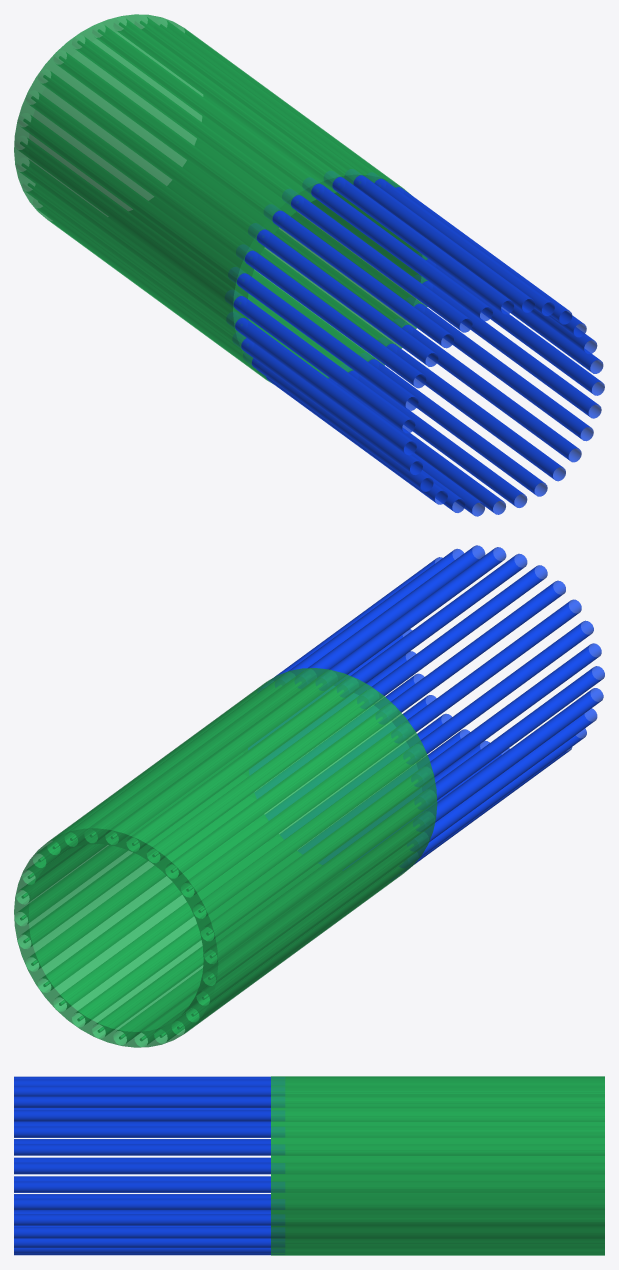
File: RRRRRRRRRRRR.fbx
3 renders of one model, top to bottom at view 1: azimuth 30°, elevation 25°; view 2: azimuth 150°, elevation 25°; view 3: azimuth 270°, elevation 25°, orthographic. The views are drawn at different scales.
Parts seen in each view (by area): view 1: Solid1, Solid1_1, Solid1_9, Solid1_2, Solid1_7, Solid1_8, Solid1_6, Solid1_25, Solid1_11, Solid1_3, Solid1_5, Solid1_13 (+15 smaller); view 2: Solid1, Solid1_2, Solid1_6, Solid1_11, Solid1_7, Solid1_8, Solid1_3, Solid1_25, Solid1_9, Solid1_1, Solid1_5, Solid1_22 (+9 smaller); view 3: Solid1, Solid1_17, Solid1_19, Solid1_15, Solid1_4, Solid1_10, Solid1_16, Solid1_18, Solid1_20, Solid1_5, Solid1_6, Solid1_13 (+11 smaller).
Part boxes in pixels (box(x1,y1,x2,y2)): Solid1: box(14, 14, 427, 383); Solid1_1: box(282, 189, 472, 332); Solid1_9: box(225, 290, 415, 433); Solid1_2: box(236, 245, 426, 388); Solid1_7: box(303, 178, 492, 321); Solid1_8: box(228, 267, 418, 410); Solid1_6: box(324, 171, 514, 314); Solid1_25: box(227, 312, 416, 455); Solid1_11: box(248, 223, 438, 366); Solid1_3: box(264, 205, 454, 348); Solid1_5: box(345, 169, 535, 312); Solid1_13: box(393, 319, 581, 462); Solid1: box(14, 668, 437, 1047); Solid1_2: box(403, 620, 593, 764); Solid1_6: box(316, 547, 506, 690); Solid1_11: box(391, 599, 581, 742); Solid1_7: box(337, 553, 527, 697); Solid1_8: box(411, 643, 601, 786); Solid1_3: box(376, 580, 565, 723); Solid1_25: box(413, 688, 603, 831); Solid1_9: box(415, 666, 604, 809); Solid1_1: box(357, 565, 547, 708); Solid1_5: box(295, 545, 485, 688); Solid1_22: box(407, 708, 597, 850); Solid1: box(271, 1076, 604, 1255); Solid1_17: box(14, 1198, 284, 1210); Solid1_19: box(14, 1162, 284, 1174); Solid1_15: box(14, 1227, 284, 1238); Solid1_4: box(14, 1110, 284, 1121); Solid1_10: box(14, 1126, 284, 1137); Solid1_16: box(14, 1214, 284, 1225); Solid1_18: box(14, 1181, 284, 1192); Solid1_20: box(14, 1144, 284, 1155); Solid1_5: box(14, 1096, 284, 1107); Solid1_6: box(14, 1086, 284, 1096); Solid1_13: box(14, 1238, 284, 1247).
Size of the model in its own units: 14 by 13.98 by 46.
